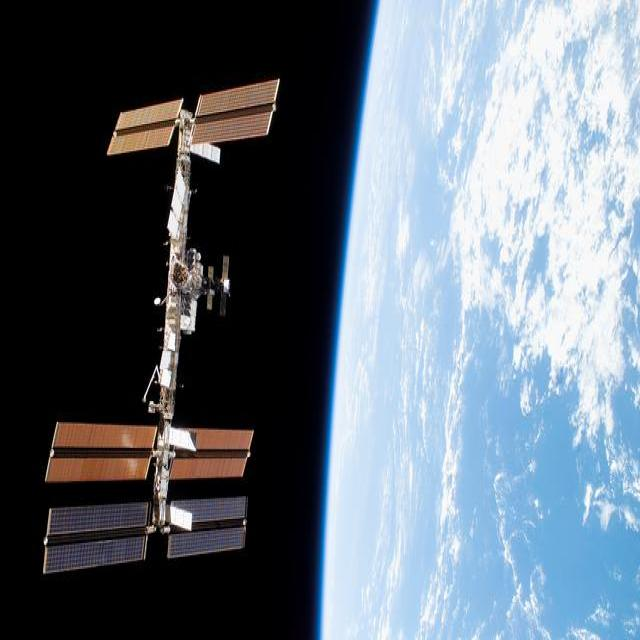medium_debris: (44, 81, 278, 572)
